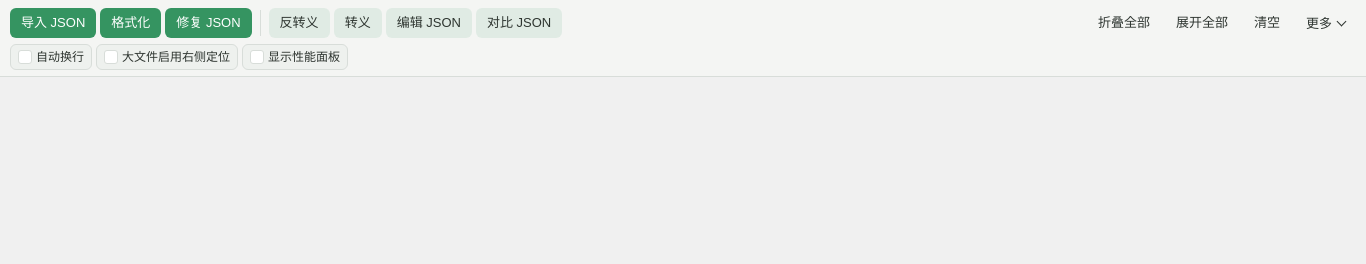
Test: JsonToolToolbar › keeps About as the final item in the more menu
Click the heading "更多": [1326, 23] box [1295,8,1356,38]
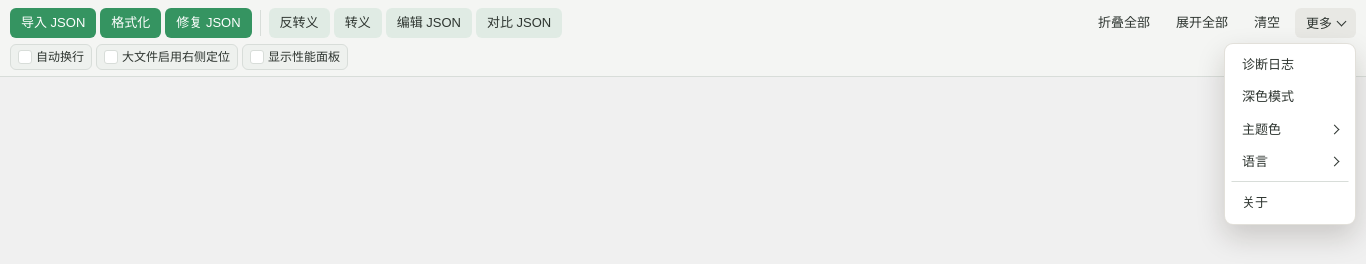
Expected: the element with class "toolbar-more-popover" is shown, [1224,43,1356,225]
Expected: the button "关于" is shown, [1231,181,1349,218]
